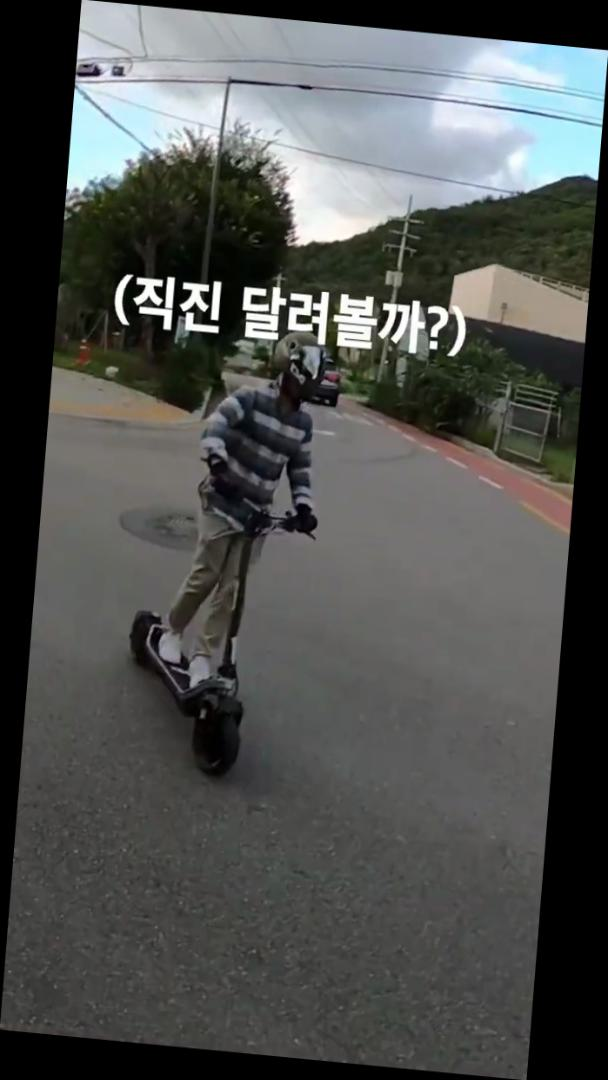helmet: (116, 316, 334, 788)
